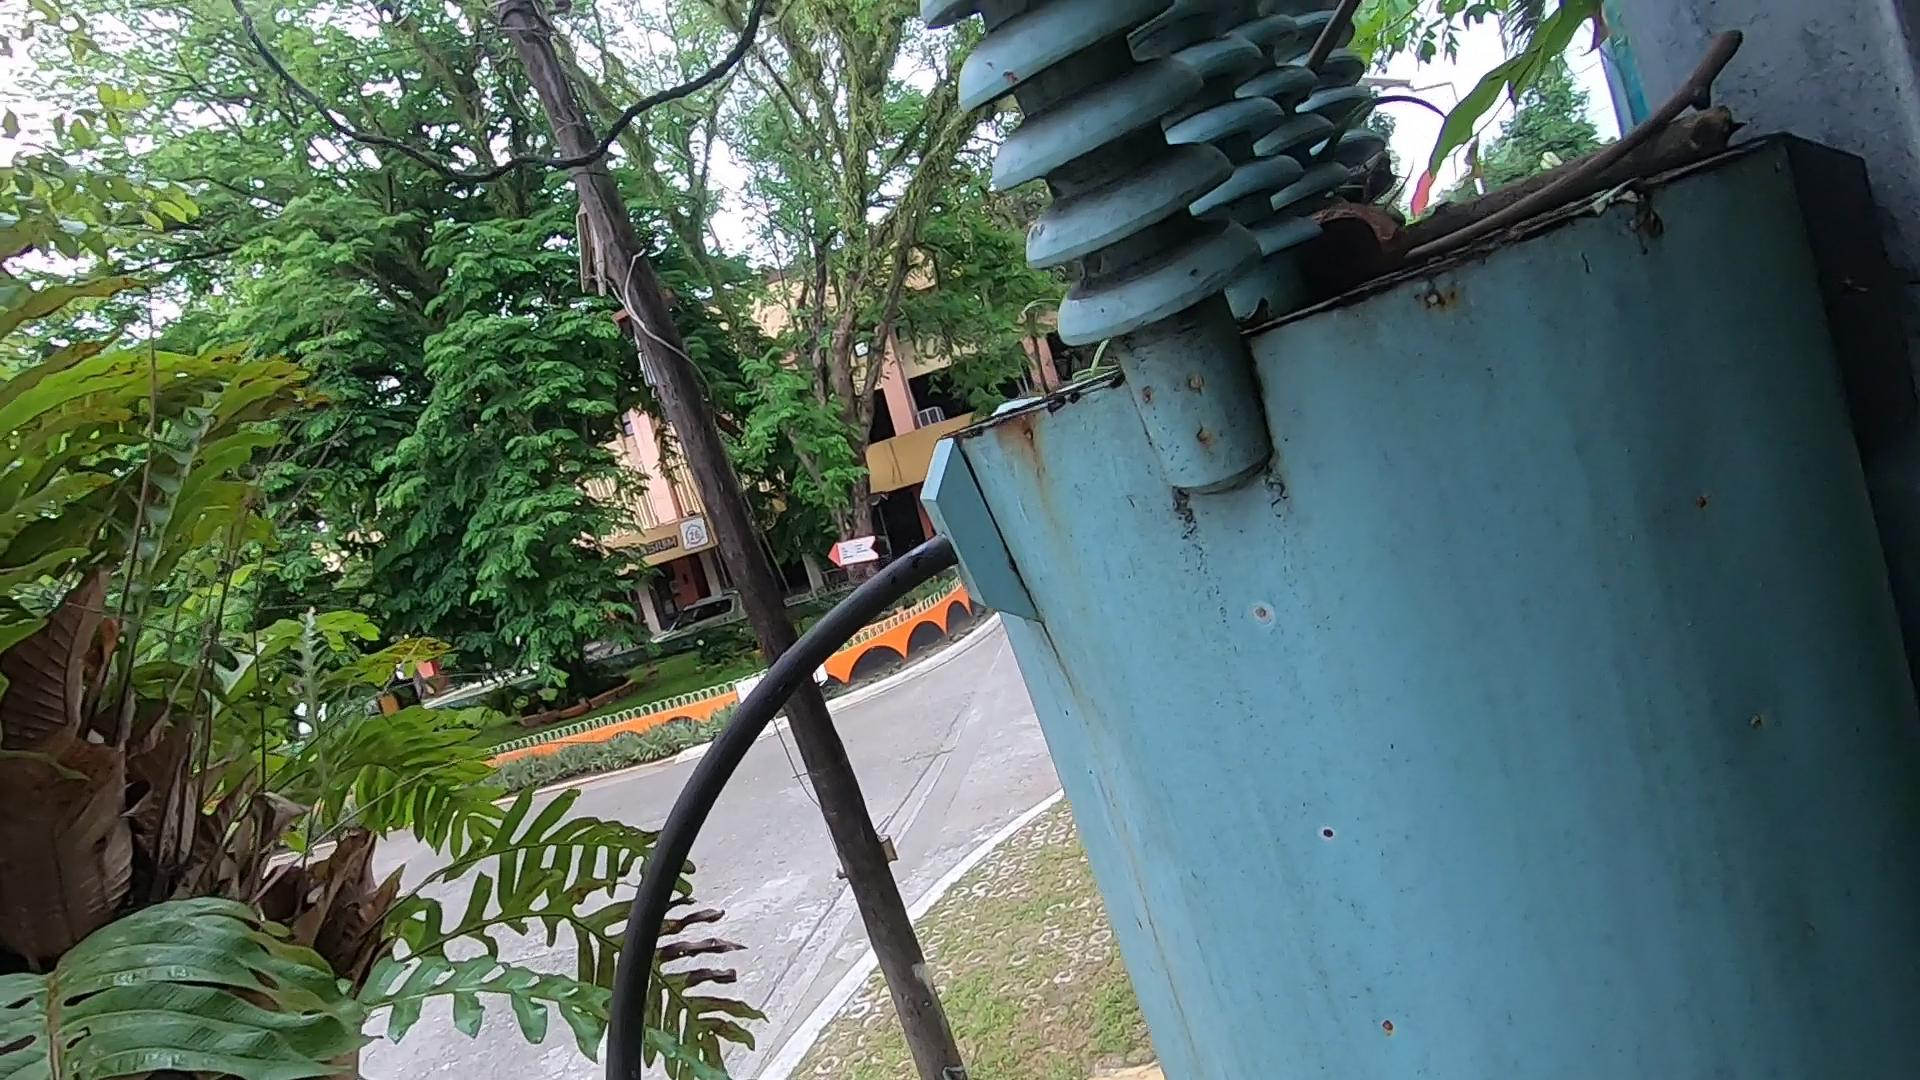tree branch: (1358, 17, 1778, 280), (1385, 109, 1749, 204)
